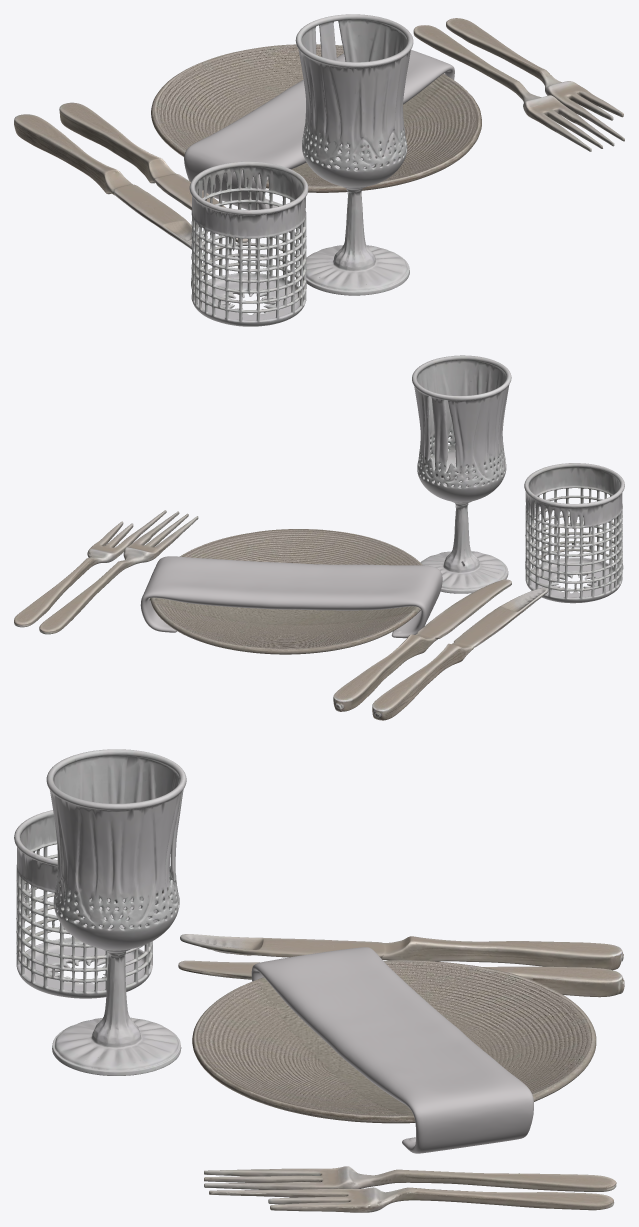
File: decor-place-setting-diagonal.glb
The picture shows the model from 3 angles, top to bottom: view 1: azimuth 30°, elevation 25°; view 2: azimuth 150°, elevation 25°; view 3: azimuth 270°, elevation 25°; orthographic projection. The views are drawn at different scales.
Parts seen in each view (by area): view 1: tripo_part_1, tripo_part_3, tripo_part_0, tripo_part_2, tripo_part_4, tripo_part_7, tripo_part_5, tripo_part_6, tripo_part_8; view 2: tripo_part_3, tripo_part_1, tripo_part_2, tripo_part_0, tripo_part_5, tripo_part_4, tripo_part_7, tripo_part_6, tripo_part_8; view 3: tripo_part_3, tripo_part_1, tripo_part_2, tripo_part_0, tripo_part_4, tripo_part_7, tripo_part_6, tripo_part_5, tripo_part_8.
Part boxes in pixels (x1=…): tripo_part_1: x1=295, y1=14, x2=413, y2=295; tripo_part_3: x1=151, y1=44, x2=481, y2=192; tripo_part_0: x1=189, y1=161, x2=308, y2=326; tripo_part_2: x1=184, y1=49, x2=454, y2=209; tripo_part_4: x1=14, y1=114, x2=203, y2=251; tripo_part_7: x1=413, y1=25, x2=614, y2=151; tripo_part_5: x1=59, y1=102, x2=247, y2=242; tripo_part_6: x1=467, y1=31, x2=624, y2=141; tripo_part_8: x1=446, y1=18, x2=484, y2=41; tripo_part_3: x1=149, y1=529, x2=422, y2=654; tripo_part_1: x1=412, y1=355, x2=511, y2=593; tripo_part_2: x1=140, y1=556, x2=442, y2=638; tripo_part_0: x1=524, y1=463, x2=624, y2=603; tripo_part_5: x1=333, y1=579, x2=511, y2=711; tripo_part_4: x1=372, y1=587, x2=548, y2=720; tripo_part_7: x1=39, y1=511, x2=198, y2=634; tripo_part_6: x1=31, y1=510, x2=166, y2=610; tripo_part_8: x1=14, y1=604, x2=47, y2=627; tripo_part_3: x1=192, y1=960, x2=596, y2=1123; tripo_part_1: x1=46, y1=749, x2=186, y2=1075; tripo_part_2: x1=251, y1=947, x2=533, y2=1153; tripo_part_0: x1=14, y1=810, x2=152, y2=998; tripo_part_4: x1=180, y1=934, x2=623, y2=970; tripo_part_7: x1=204, y1=1166, x2=616, y2=1191; tripo_part_6: x1=209, y1=1187, x2=559, y2=1212; tripo_part_5: x1=178, y1=960, x2=624, y2=997; tripo_part_8: x1=551, y1=1192, x2=614, y2=1210.
Size of the model in its own units: 0.45 by 0.1986 by 0.4039.
9 materials, 8 textured.
